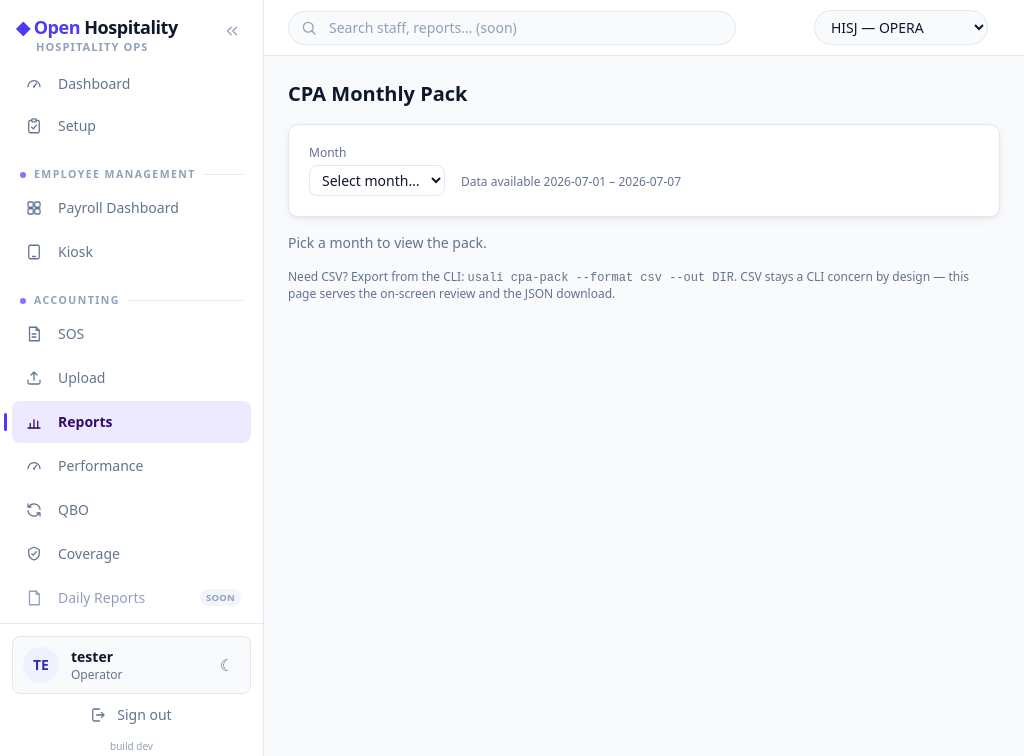
Test: ReportsPage › derives month options from the property date window and fetches the pack
Step 1. Select "HISJ — OPERA" in the dropdown named "Active property" → (901, 28), box [814,10,988,45]
Step 2. Select "2026-07" in the dropdown labelled "Month" → (377, 180), box [309,165,445,196]
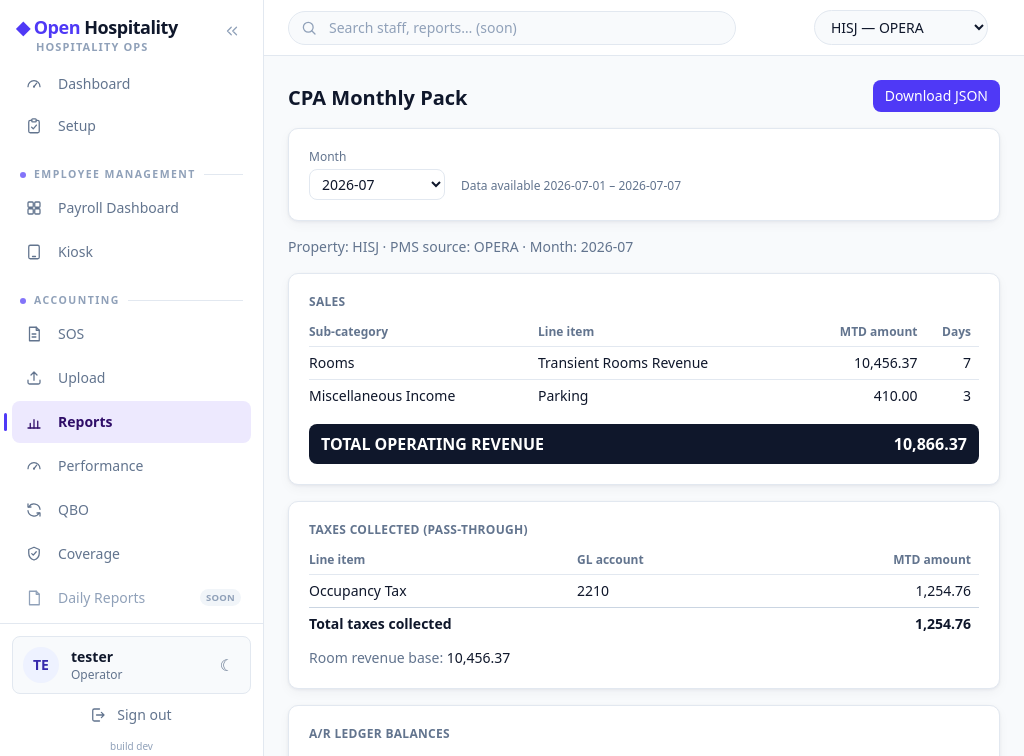
Result: the text "TOTAL OPERATING REVENUE" is shown at [321,432,544,456]
